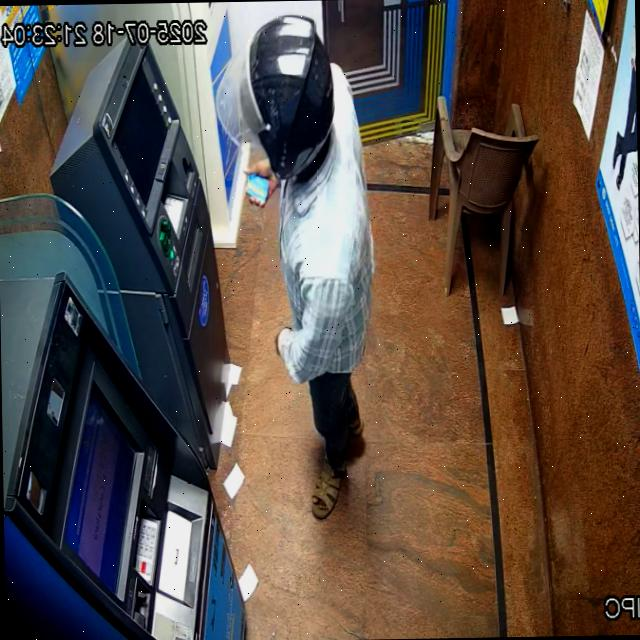helmet: (216, 13, 334, 180)
